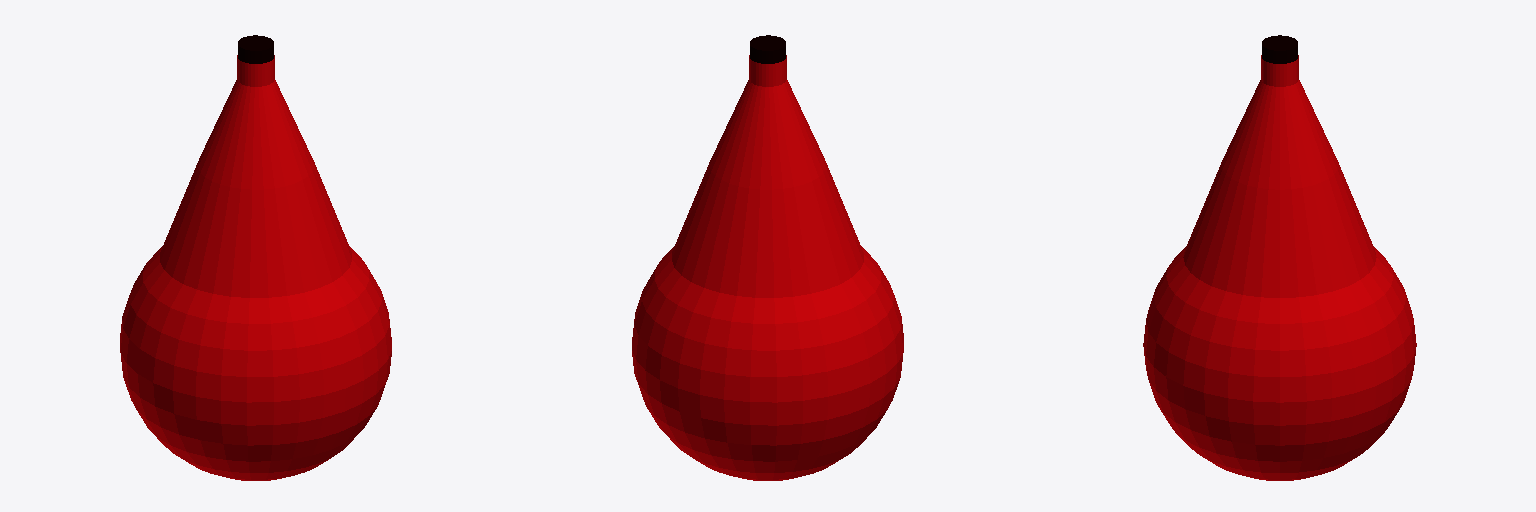
The model's file is health_potion.obj.
3 renders of one model, left to right at view 1: azimuth 30°, elevation 25°; view 2: azimuth 150°, elevation 25°; view 3: azimuth 270°, elevation 25°, orthographic.
Visible parts, largest first — view 1: Sphere; view 2: Sphere; view 3: Sphere.
Part boxes in pixels (x1,y1,x2,y2): Sphere: (120, 35, 391, 480); Sphere: (632, 35, 903, 480); Sphere: (1143, 35, 1416, 480).
Size of the model in its own units: 2 by 3.44 by 2.